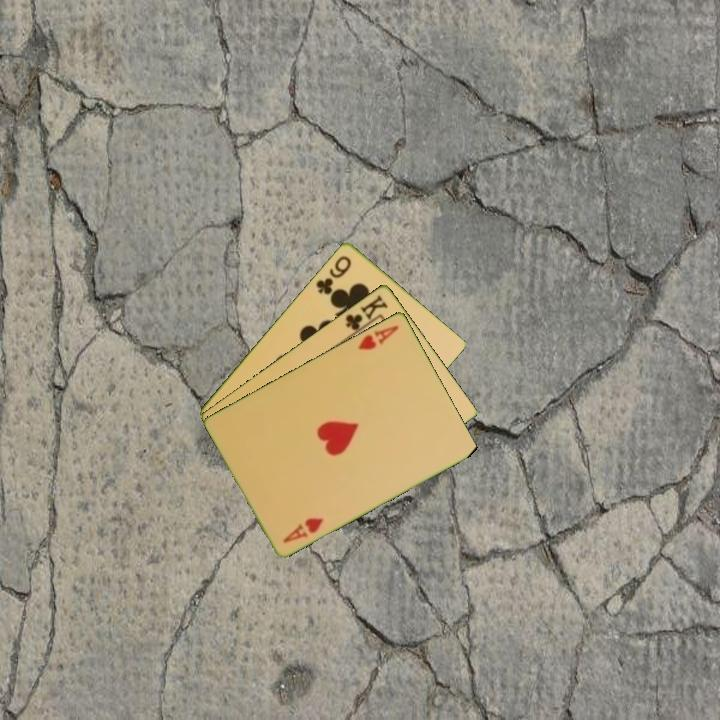9c: (312, 252, 354, 297)
Ah: (354, 321, 402, 353), (279, 514, 326, 545)
Kc: (341, 291, 391, 338)
